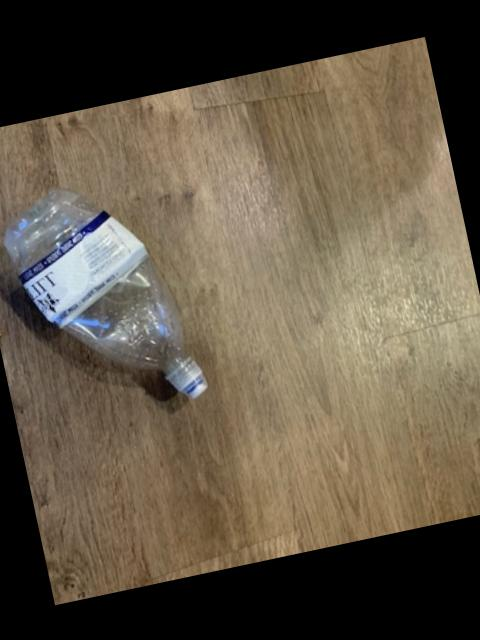plastic: (8, 190, 208, 397)
